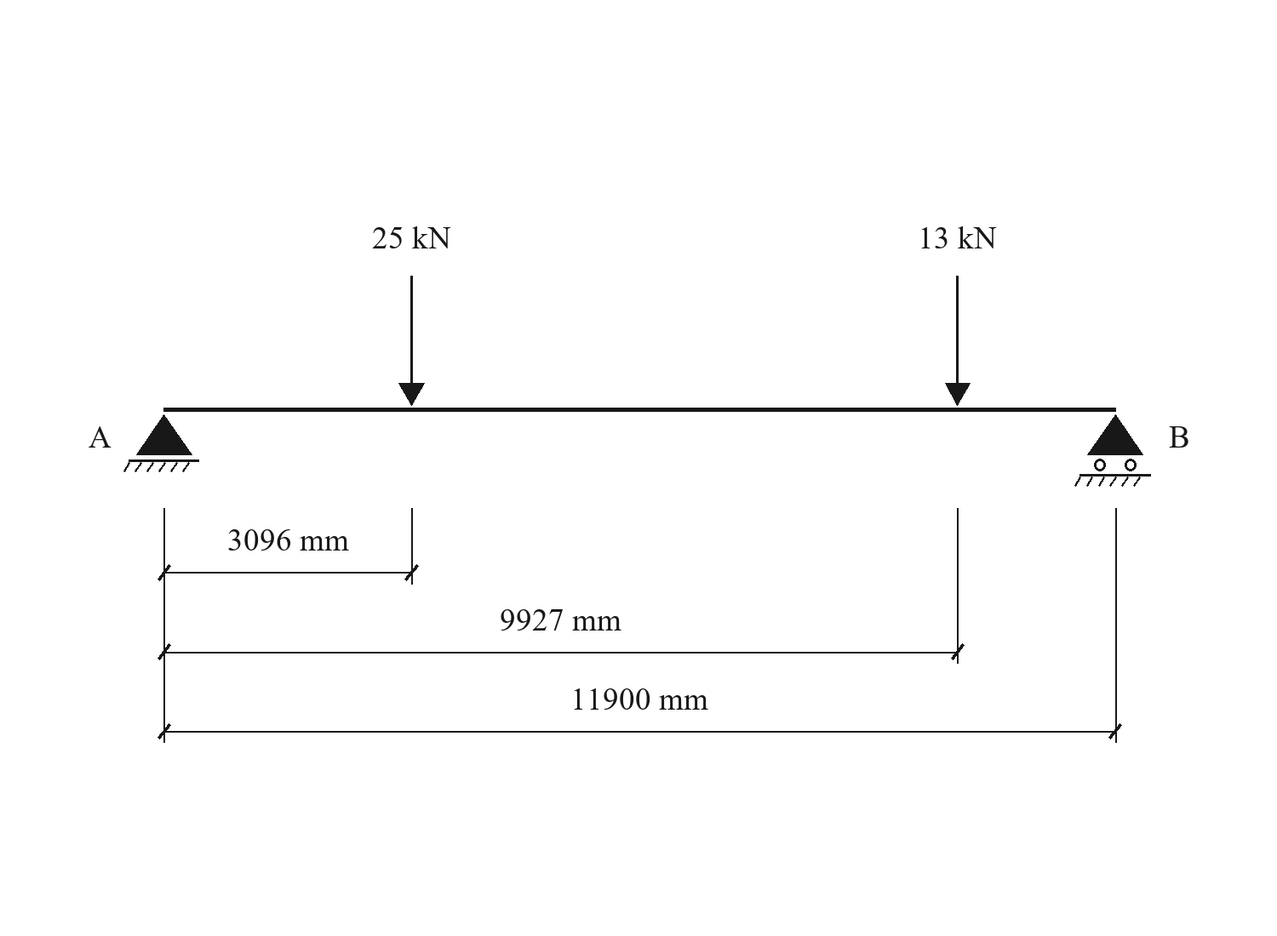pin_support: (123, 414, 199, 472)
point_load: (398, 276, 425, 406), (945, 276, 971, 406)
roller_support: (1074, 414, 1151, 487)
